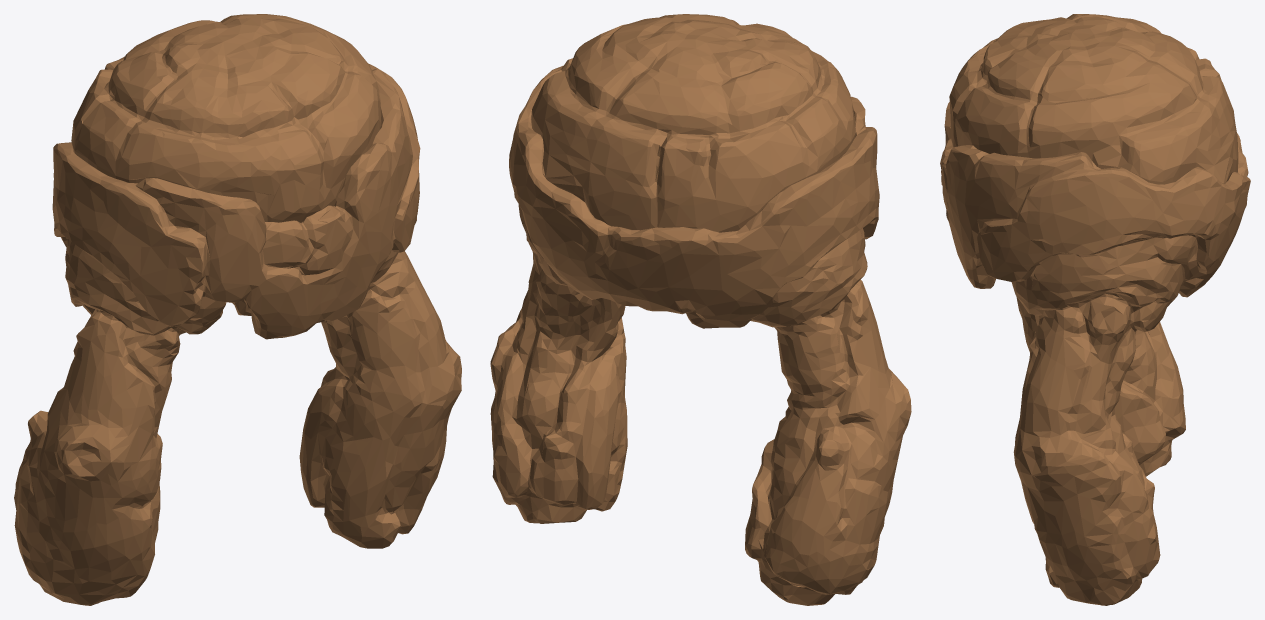
Rendered from set_04_base_legs.glb.
3 renders of one model, left to right at view 1: azimuth 30°, elevation 25°; view 2: azimuth 150°, elevation 25°; view 3: azimuth 270°, elevation 25°, orthographic. The views are drawn at different scales.
Visible parts, largest first — view 1: legs; view 2: legs; view 3: legs.
Boxes of the visible parts, left/top/right/bottom form: legs: left=14, top=14, right=461, bottom=605; legs: left=490, top=14, right=911, bottom=605; legs: left=940, top=14, right=1250, bottom=605.
Bounding box in the file's own units: 0.0384 × 0.0493 × 0.0275.
